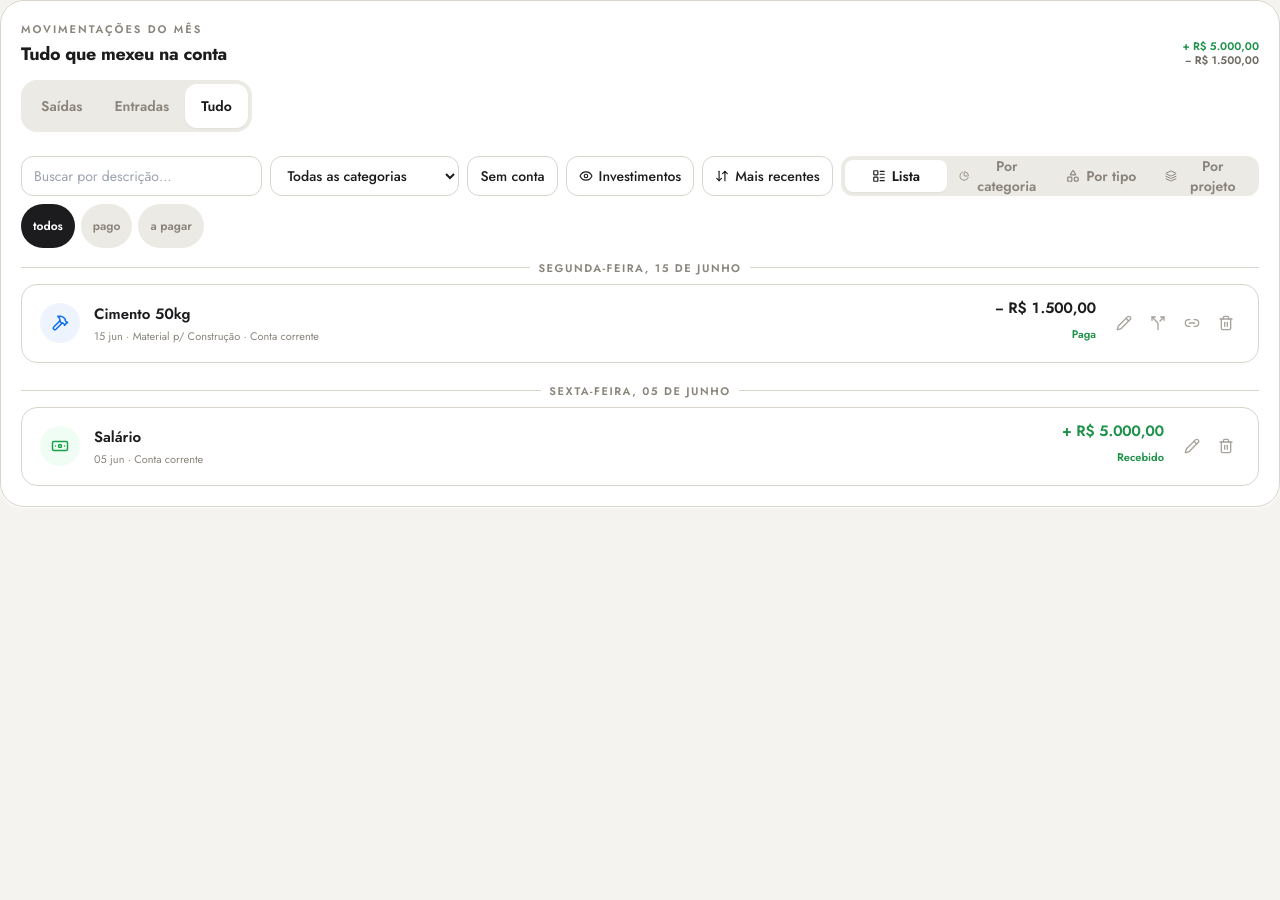
Test: MovimentacoesSection → FinancialItemDetail wiring › closing the detail preserves filters and scroll position
Apply a filter: switch to "Saídas" tab
Click the button "Saídas". click: {"x": 62, "y": 106}
box: [25, 84, 98, 128]
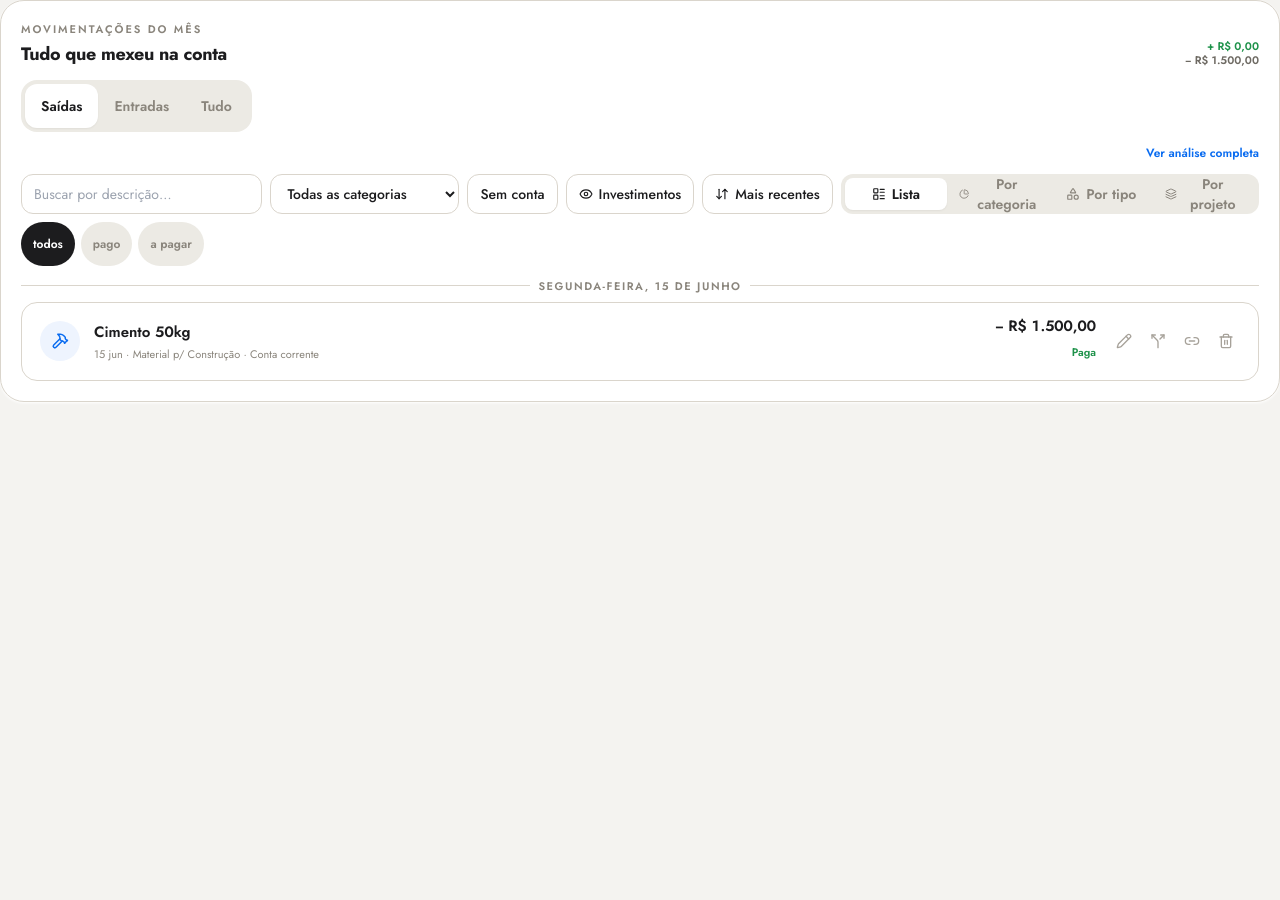
Open detail
Click the button named "Ver detalhe". click: {"x": 60, "y": 341}
box: [38, 319, 82, 363]
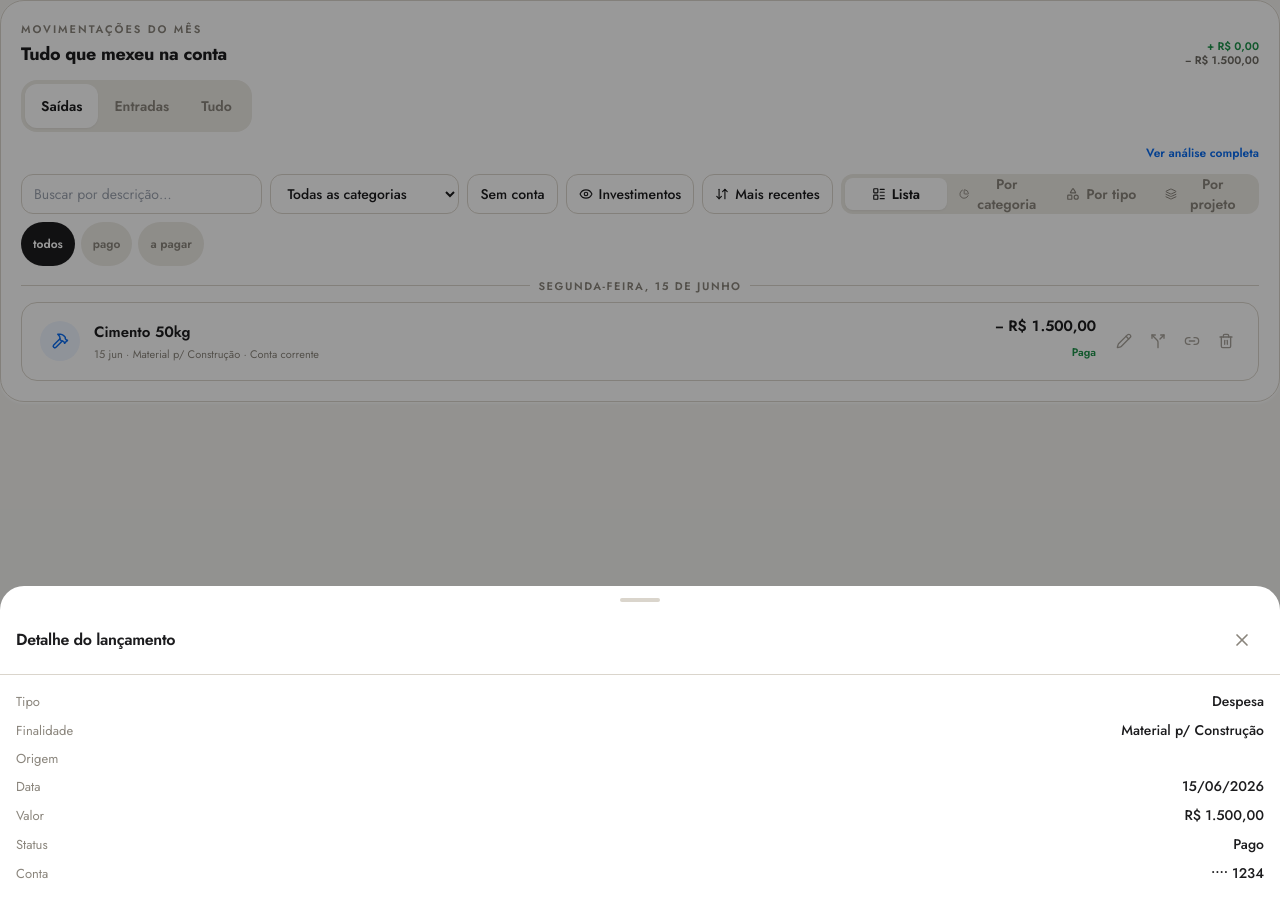
Now the element with test id "financial-detail-sheet" is shown
Close detail via the close button
Click the button named "Fechar". click: {"x": 1242, "y": 640}
box: [1220, 618, 1264, 662]
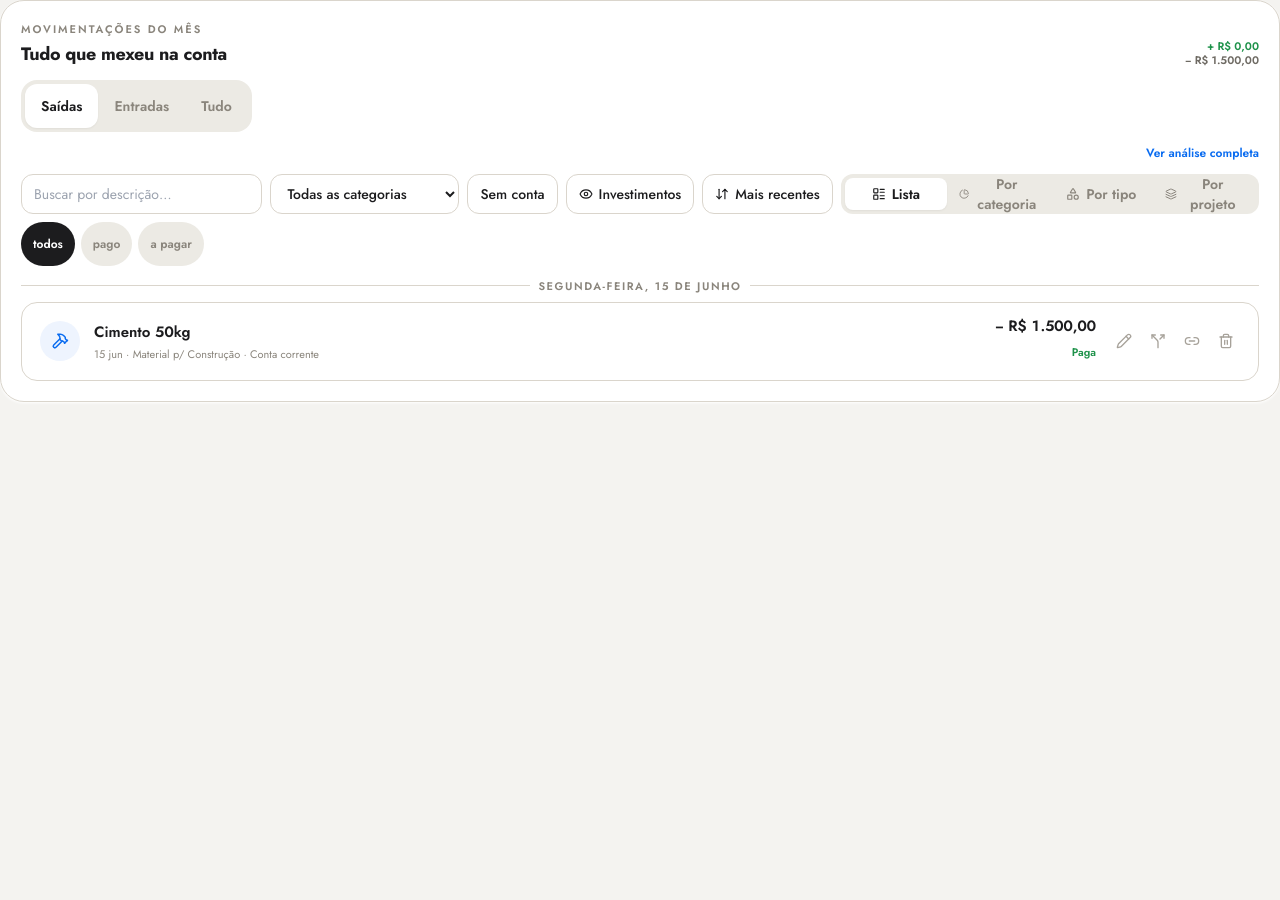
Expected: the text "Cimento 50kg" is shown, [94, 323, 195, 342]
Now the element with test id "financial-detail-sheet" is gone
